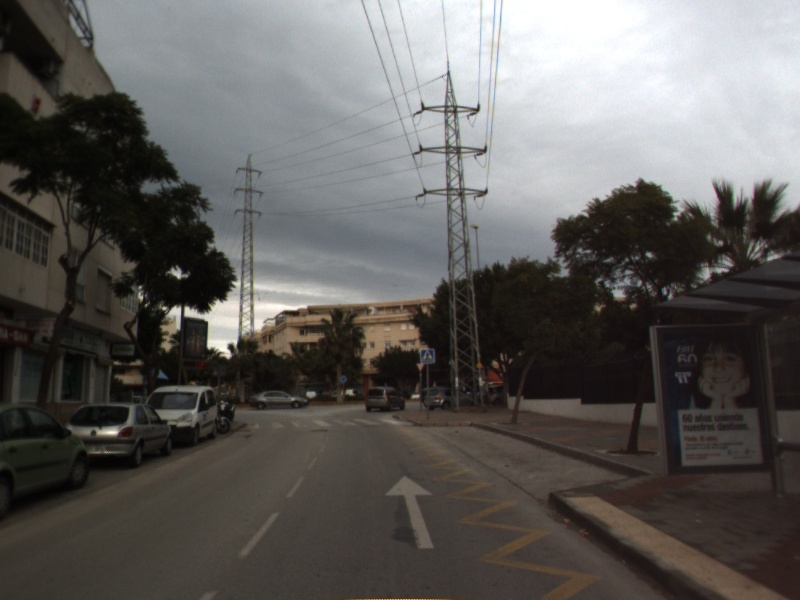STRAIGHT: (382, 473, 437, 551)
